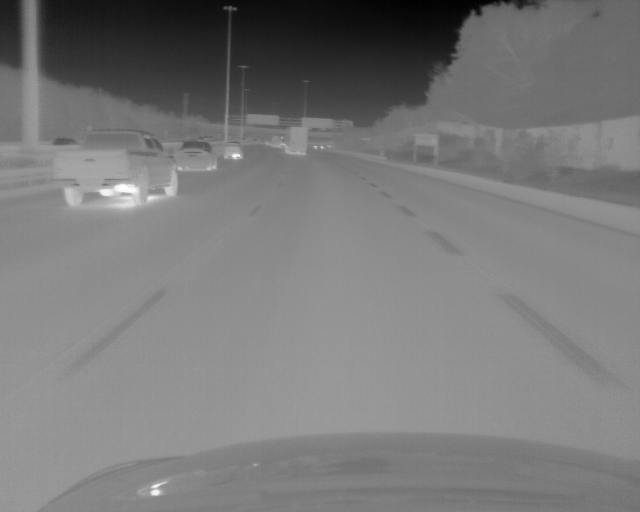car: (53, 129, 178, 208), (176, 141, 215, 170), (285, 126, 307, 155), (223, 142, 243, 159), (51, 137, 80, 146)
